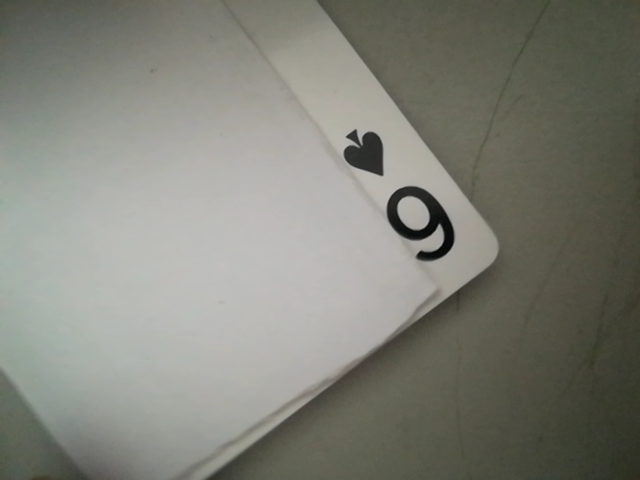ht 6: (337, 124, 478, 279)
